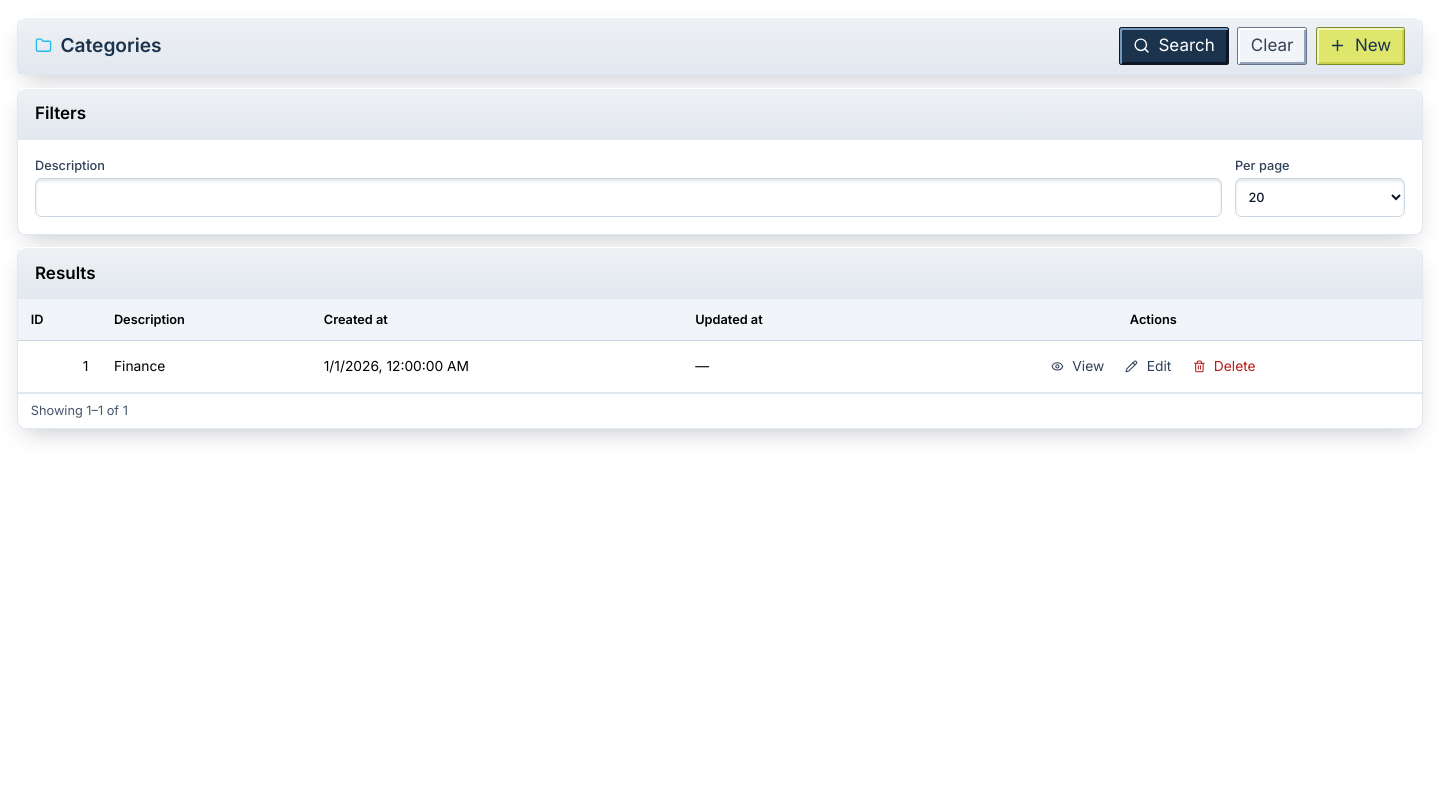
Test: creating a category with a blank description blocks submission and shows a validation error
Expected: the text "Finance" is shown, [101,341,311,393]
Click the button "New". click: (1360,46)
box: [1316,26,1405,65]
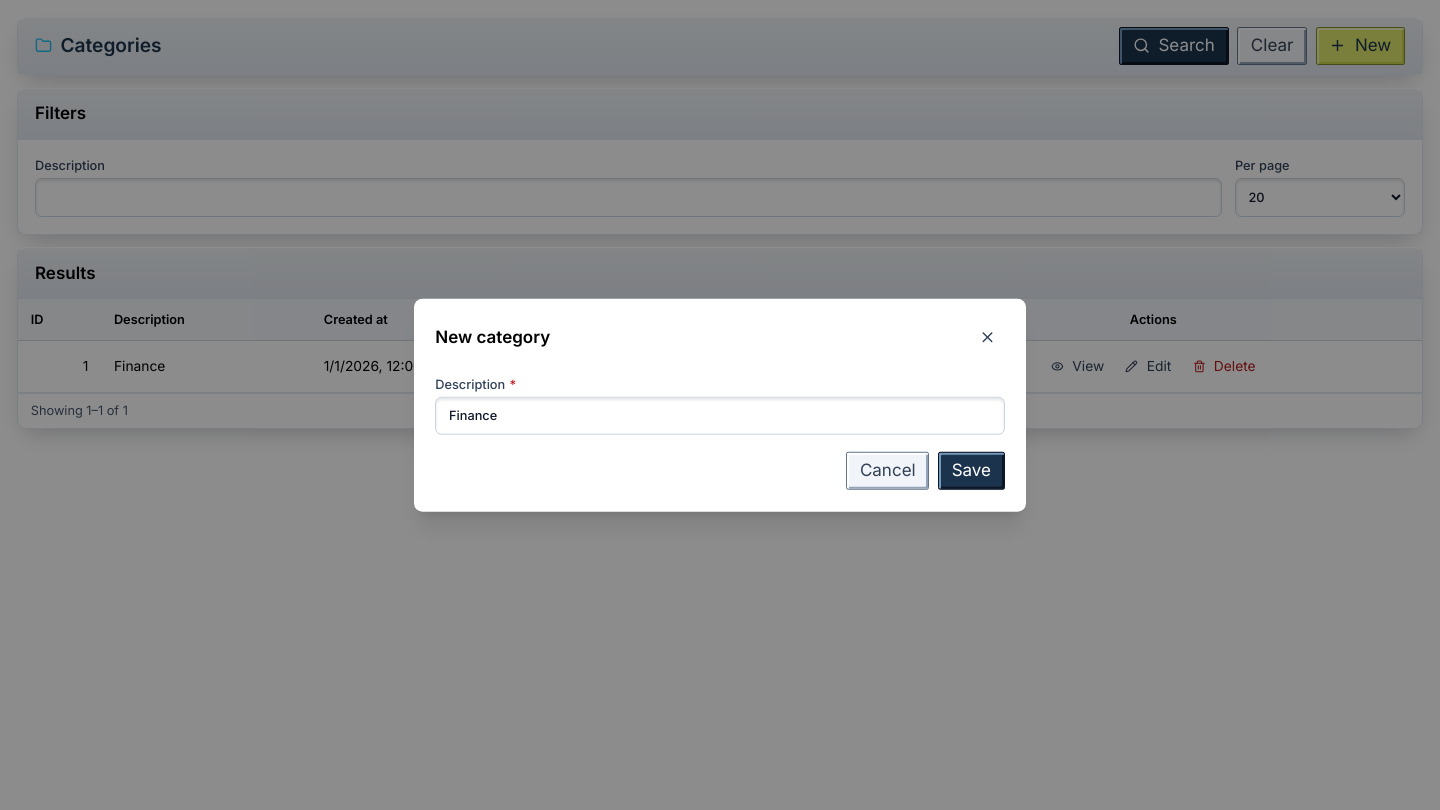
Now the heading "New category" is shown, box [435,325,550,349]
Clear the field labelled "Description". click: (720,416)
box: [435,396,1005,435]
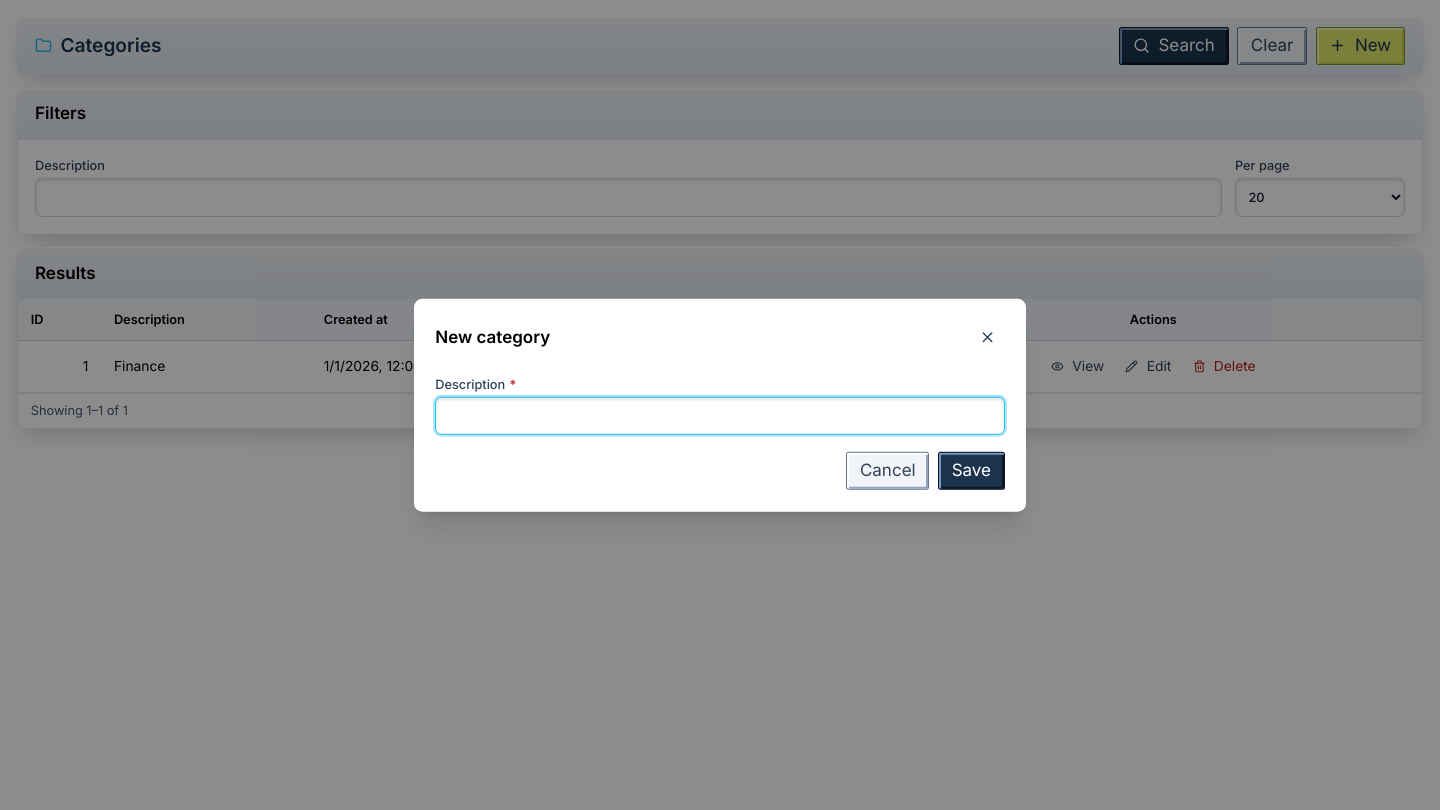
Click the button "Save". click: (971,471)
box: [938,452,1005,490]
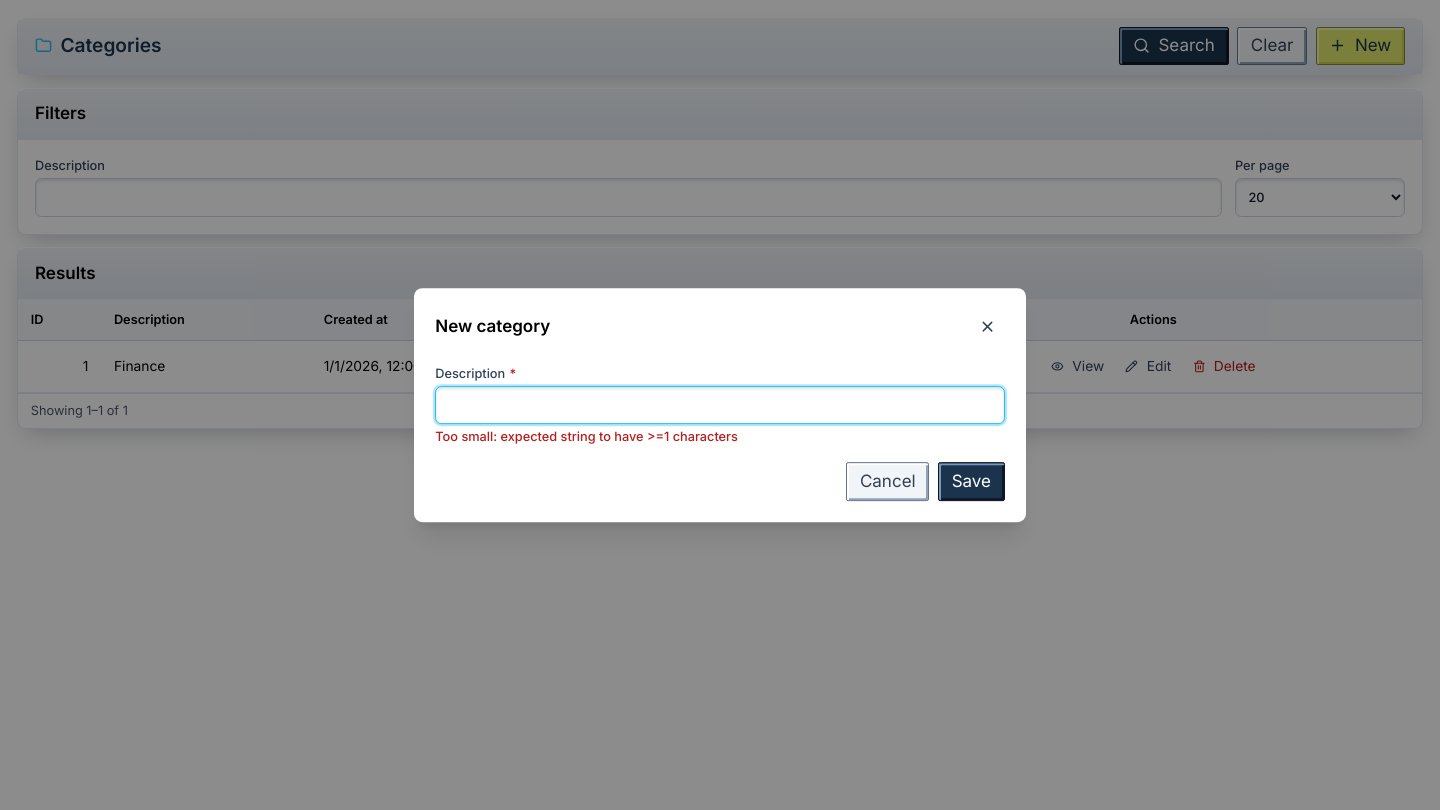
Now the dialog is shown, box [414,288,1026,522]
Now the text "." is shown, box [435,429,738,444]
